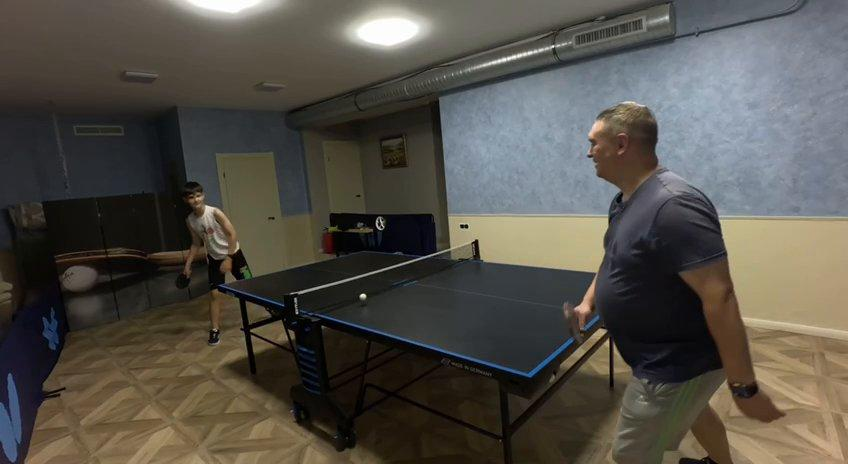Ball: (357, 293, 367, 305)
Net: (283, 240, 481, 321)
Player1: (180, 182, 241, 281)
Player2: (575, 111, 754, 463)
Table: (222, 253, 640, 377)
